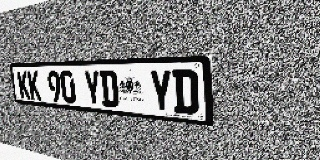0: (59, 71, 76, 104)
9: (47, 71, 63, 102)
D: (172, 69, 199, 115), (99, 70, 119, 108)
K: (27, 71, 42, 100), (17, 71, 31, 99)
Y: (149, 70, 173, 113), (83, 70, 102, 106)
